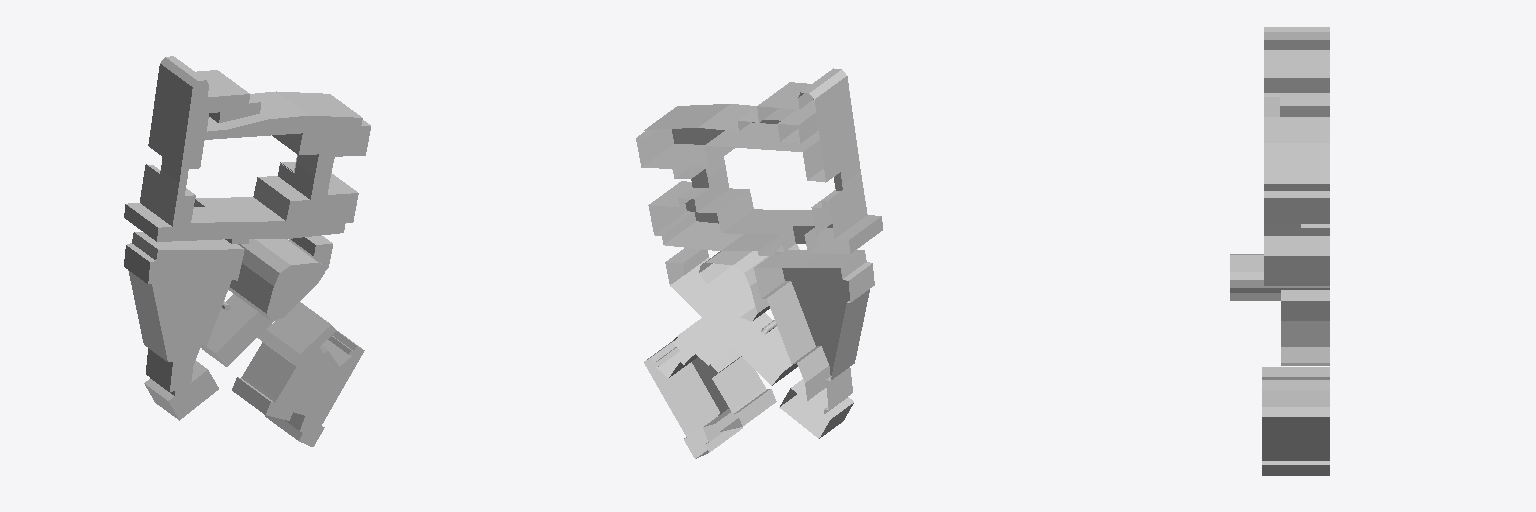
The model's file is kth_campus_with_arches.obj.
3 renders of one model, left to right at view 1: azimuth 30°, elevation 25°; view 2: azimuth 150°, elevation 25°; view 3: azimuth 270°, elevation 25°, orthographic.
Size of the model in its own units: 0.3598 by 0.6305 by 0.1441.